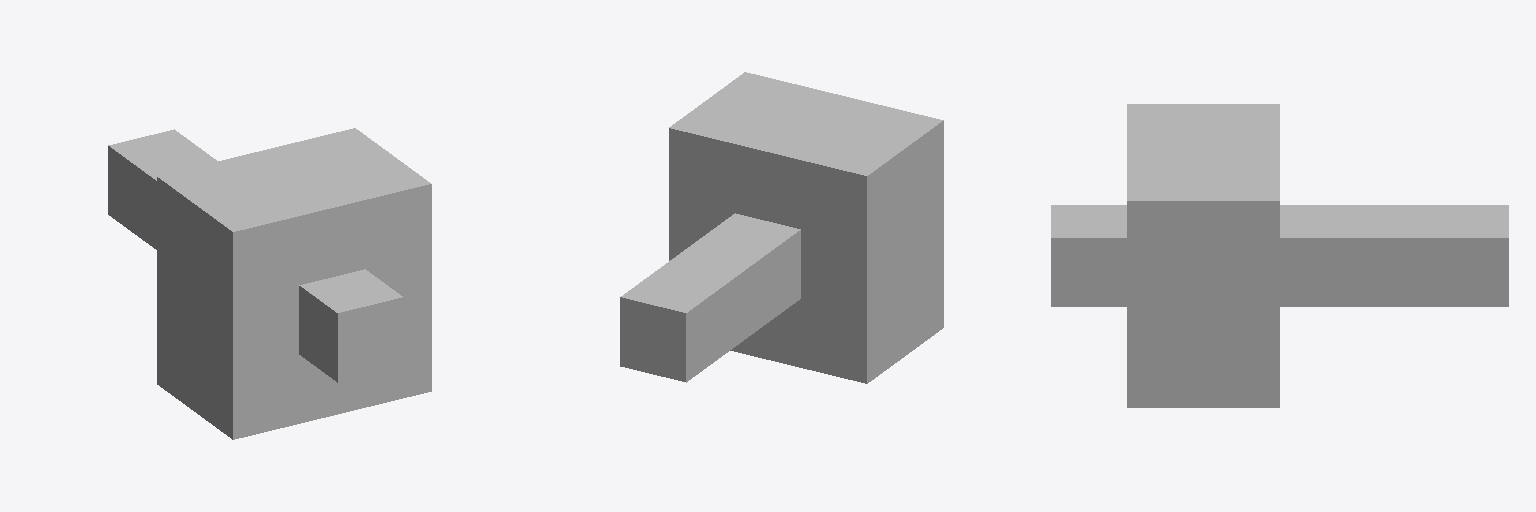
The model's file is tinker(1).obj.
3 views of the same model, side by side, from view 1: azimuth 30°, elevation 25°; view 2: azimuth 150°, elevation 25°; view 3: azimuth 270°, elevation 25° (orthographic).
Parts seen in each view (by area): view 1: obj_0; view 2: obj_0; view 3: obj_0.
Boxes of the visible parts, x1,y1,x2,y2 form: obj_0: [108, 128, 431, 439]; obj_0: [620, 72, 943, 383]; obj_0: [1051, 104, 1508, 407].
Size of the model in its own units: 30 by 30 by 60.